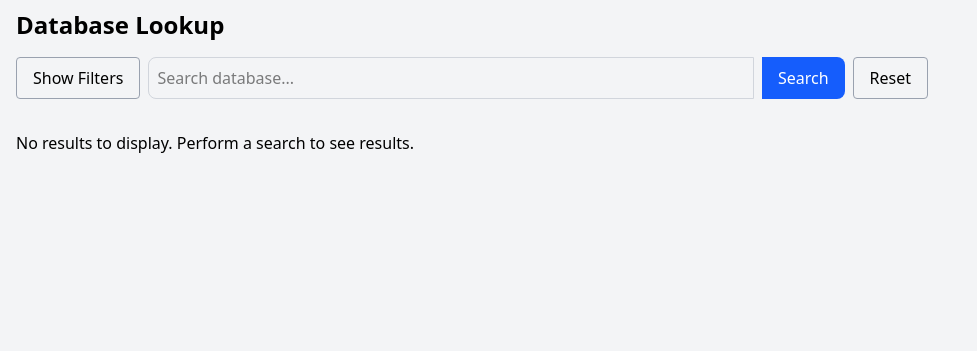
Scenario: DBLookup Component › resets all inputs and results
This screenshot has width=977, height=351.
Perform search to have results on screen
Type "test" into the field with placeholder "Search database...". click: (451, 78)
box: x1=148 y1=57 x2=754 y2=99
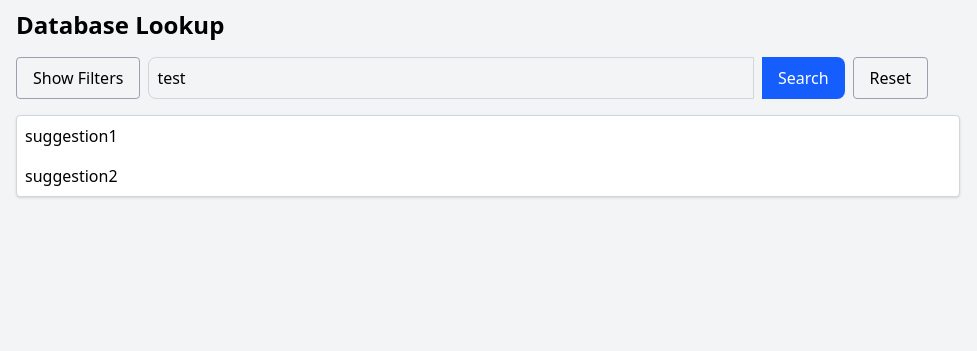
Click the button "Search". click: (803, 78)
box: x1=762 y1=57 x2=844 y2=99
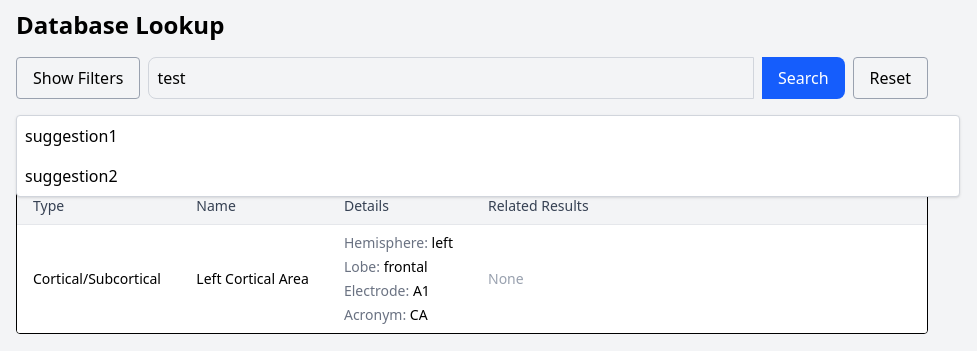
Now the text "Left Cortical Area" is shown, box x1=180 y1=224 x2=328 y2=333
Click reset
Click the button "Reset". click: (890, 78)
box: x1=852 y1=57 x2=928 y2=99
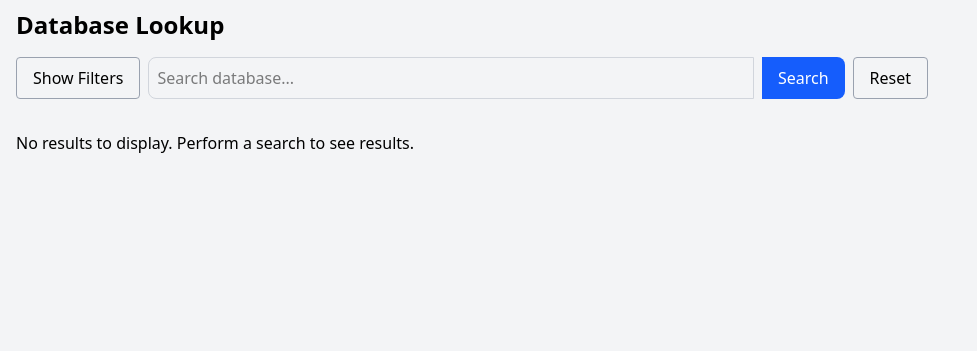
Now the field with placeholder "Search database..." is empty, box x1=148 y1=57 x2=754 y2=99
Now the text "No results to display. Perform a search to see results." is shown, box x1=16 y1=132 x2=414 y2=154
